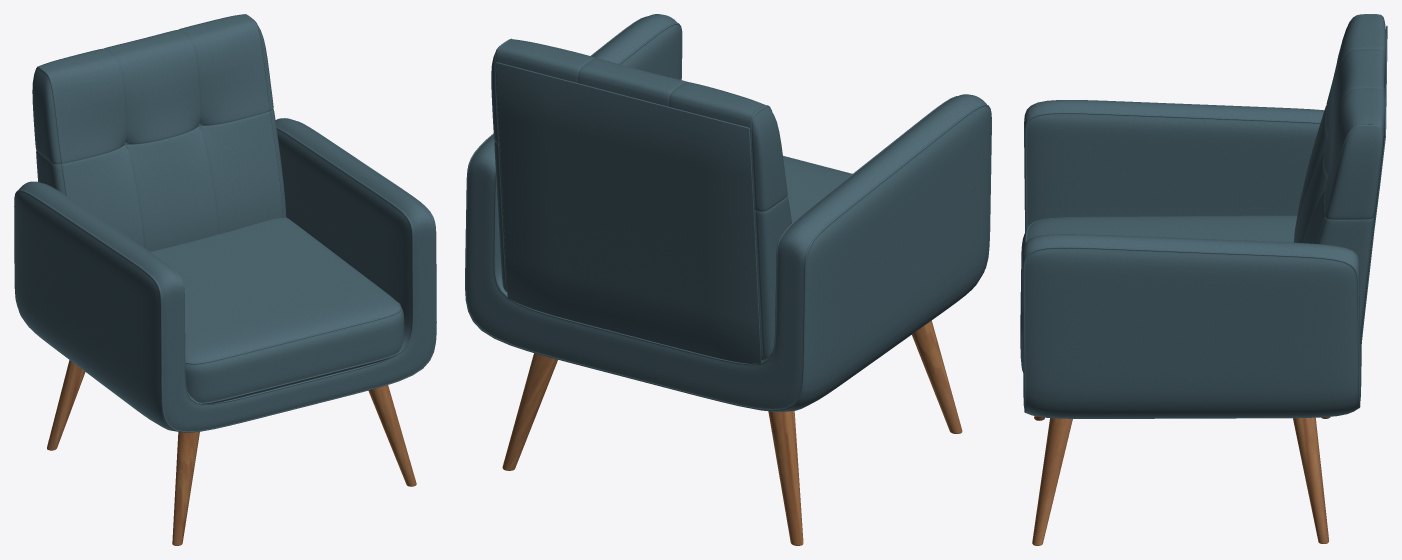
Rendered from armchair_2.glb.
3 renders of one model, left to right at view 1: azimuth 30°, elevation 25°; view 2: azimuth 150°, elevation 25°; view 3: azimuth 270°, elevation 25°, orthographic. The views are drawn at different scales.
Parts seen in each view (by area): view 1: Plane.001; view 2: Plane.001; view 3: Plane.001.
Part boxes in pixels (x1,y1,x2,y2): Plane.001: [14, 14, 436, 545]; Plane.001: [465, 14, 991, 545]; Plane.001: [1020, 14, 1387, 545].
Bounding box in the file's own units: 0.7007 × 0.8682 × 0.6967.
1 material, 1 textured.
